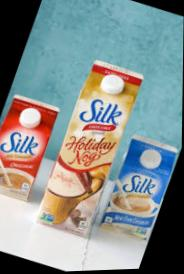cardboard: (31, 54, 147, 241), (97, 133, 180, 245), (0, 90, 62, 203)
